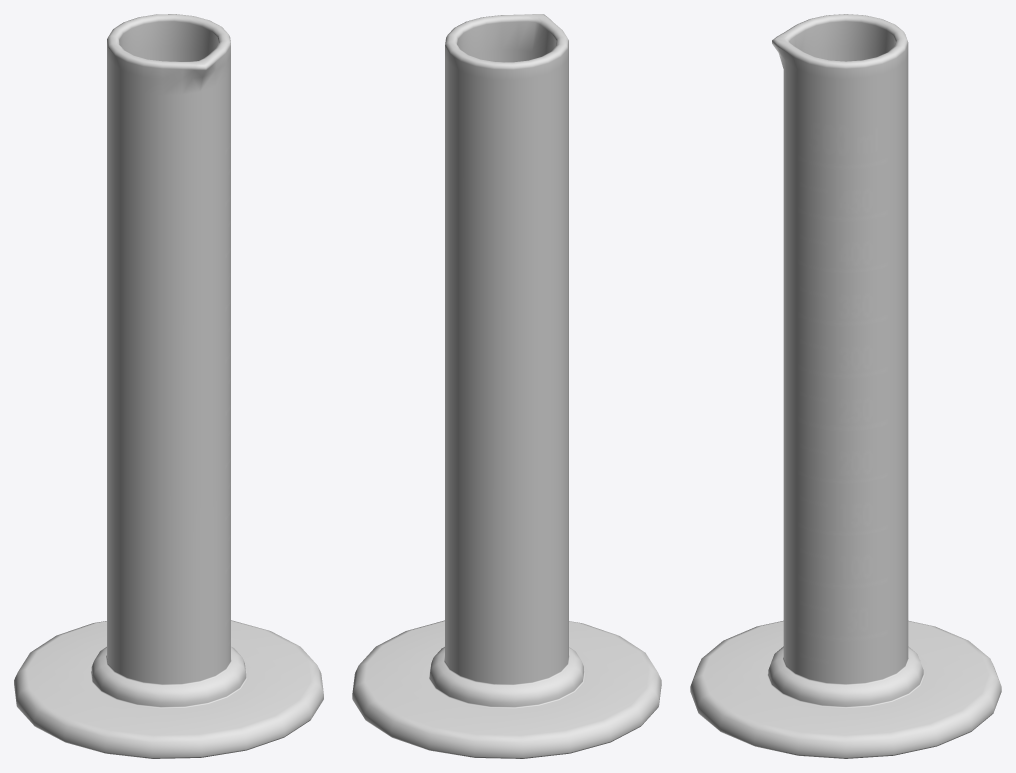
The model's file is big graduated Cylinder.glb.
3 renders of one model, left to right at view 1: azimuth 30°, elevation 25°; view 2: azimuth 150°, elevation 25°; view 3: azimuth 270°, elevation 25°, orthographic.
Visible parts, largest first — view 1: GraduatedCylinder_500mL_Glass_MAT_0; view 2: GraduatedCylinder_500mL_Glass_MAT_0; view 3: GraduatedCylinder_500mL_Glass_MAT_0.
Part boxes in pixels (left/top/right/bottom): GraduatedCylinder_500mL_Glass_MAT_0: left=14, top=14, right=323, bottom=758; GraduatedCylinder_500mL_Glass_MAT_0: left=352, top=14, right=661, bottom=758; GraduatedCylinder_500mL_Glass_MAT_0: left=690, top=14, right=1001, bottom=758.
Bounding box in the file's own units: 0.17 × 0.3952 × 0.17.
Materials: 1 (1 with a texture image).
